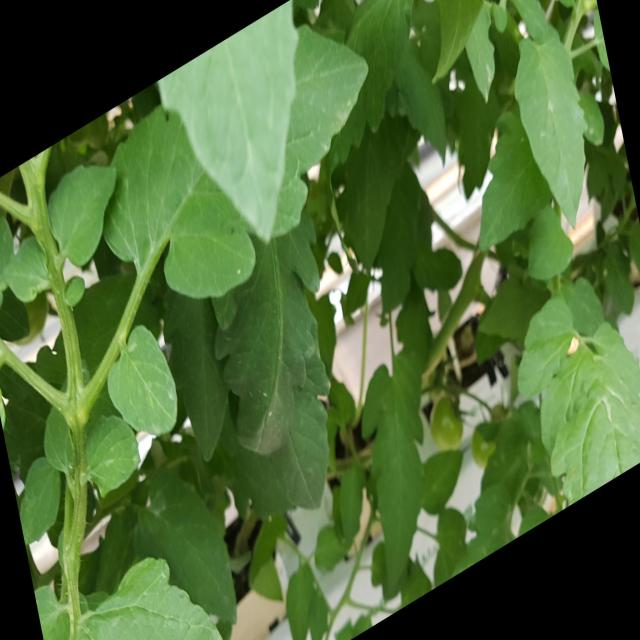Healthy Leaf: (520, 281, 640, 510), (358, 347, 433, 609), (511, 19, 590, 231), (104, 319, 203, 459), (46, 168, 122, 276)
